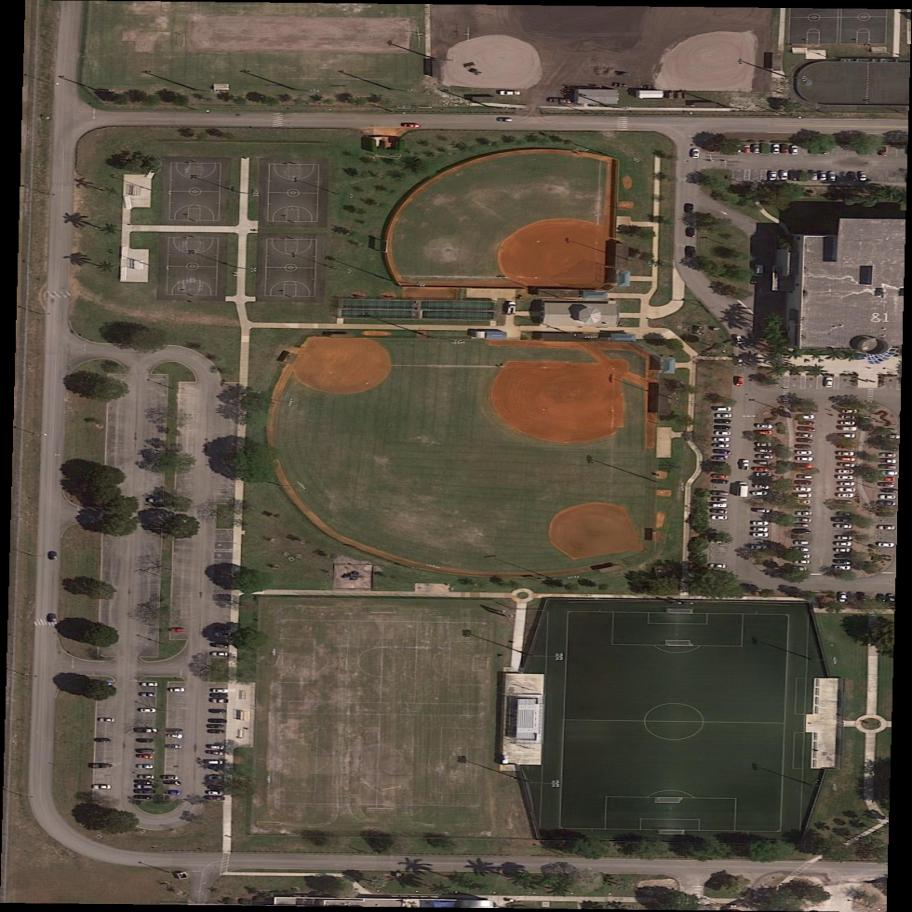small-vehicle: (877, 592, 889, 607), (738, 481, 749, 497), (713, 448, 733, 456), (547, 98, 573, 104), (877, 457, 899, 464), (797, 426, 818, 433), (709, 508, 730, 515), (882, 445, 900, 453), (506, 302, 517, 315), (93, 783, 113, 790), (206, 744, 226, 751), (711, 473, 731, 480), (205, 749, 224, 756), (880, 487, 899, 494), (796, 437, 815, 444), (794, 504, 813, 511), (733, 334, 744, 346), (755, 264, 765, 277), (848, 170, 858, 183), (857, 590, 867, 603), (500, 90, 521, 96), (209, 698, 230, 704), (712, 490, 730, 497), (878, 481, 896, 488), (879, 500, 897, 507), (711, 496, 729, 503), (794, 463, 815, 469), (792, 487, 813, 493), (792, 529, 813, 535), (687, 247, 697, 259), (835, 500, 855, 506), (879, 464, 899, 470), (793, 517, 813, 523), (790, 547, 810, 553), (798, 420, 815, 427), (134, 789, 157, 794), (93, 737, 112, 743), (169, 627, 188, 633), (211, 643, 230, 649), (141, 682, 160, 688), (164, 790, 183, 796), (206, 795, 225, 801), (833, 517, 852, 523), (834, 553, 853, 559), (880, 470, 899, 476), (878, 495, 897, 501), (877, 525, 896, 531), (708, 563, 727, 569), (792, 493, 811, 499), (734, 144, 744, 155), (92, 764, 114, 769), (686, 228, 697, 238), (137, 754, 155, 760), (714, 437, 732, 443), (715, 430, 733, 436), (715, 413, 733, 419), (825, 377, 834, 389), (139, 692, 157, 698), (134, 794, 152, 800), (712, 455, 730, 461), (834, 559, 852, 565), (838, 456, 856, 462), (879, 476, 897, 482), (796, 450, 814, 456), (207, 764, 222, 771), (836, 512, 857, 517), (880, 435, 901, 440), (755, 484, 770, 491), (166, 734, 183, 740), (715, 425, 732, 431), (838, 493, 855, 499), (835, 565, 852, 571), (798, 414, 815, 420), (880, 452, 897, 458), (751, 491, 768, 497), (753, 521, 770, 527), (712, 515, 729, 521), (711, 503, 728, 509), (794, 499, 811, 505), (781, 145, 791, 155), (136, 749, 156, 754), (735, 377, 745, 387), (828, 172, 838, 182), (838, 593, 848, 603), (781, 170, 790, 181), (858, 171, 867, 182), (790, 171, 799, 182), (148, 498, 164, 504), (838, 481, 854, 487), (797, 432, 813, 438), (843, 409, 859, 415), (135, 738, 154, 743), (879, 428, 898, 433), (210, 652, 229, 657), (206, 729, 225, 734), (208, 718, 227, 723), (208, 693, 227, 698), (772, 145, 781, 155), (137, 764, 155, 769), (769, 171, 778, 181), (715, 419, 733, 424), (714, 407, 732, 412), (685, 204, 694, 214), (215, 632, 233, 637), (48, 613, 57, 623), (50, 551, 59, 561), (208, 790, 223, 796), (209, 709, 227, 714), (98, 718, 116, 723), (835, 524, 853, 529), (834, 548, 852, 553), (795, 444, 813, 449), (754, 532, 769, 538), (796, 475, 814, 480), (795, 554, 813, 559), (791, 567, 809, 572), (497, 118, 514, 123), (138, 775, 155, 780), (713, 443, 730, 448), (404, 123, 421, 128), (169, 688, 186, 693), (207, 785, 224, 790), (207, 724, 224, 729), (838, 463, 855, 468), (838, 469, 855, 474), (839, 487, 856, 492), (756, 455, 773, 460), (756, 472, 773, 477), (751, 545, 768, 550), (798, 456, 815, 461), (795, 480, 812, 485), (135, 785, 156, 789), (752, 145, 761, 154), (691, 150, 700, 159), (137, 729, 157, 733), (166, 744, 182, 749), (134, 780, 154, 784), (139, 708, 155, 713), (711, 480, 731, 484), (838, 475, 854, 480), (836, 542, 852, 547), (880, 146, 888, 156), (878, 543, 894, 548), (839, 421, 855, 426), (756, 424, 772, 429), (742, 460, 750, 470), (757, 448, 773, 453), (797, 511, 813, 516), (795, 560, 811, 565), (164, 780, 179, 785), (842, 415, 857, 420), (754, 467, 769, 472), (876, 513, 894, 517), (744, 145, 752, 154), (791, 146, 799, 155), (811, 172, 819, 181), (819, 172, 827, 181), (839, 427, 857, 431), (752, 528, 770, 532), (792, 524, 810, 528), (208, 776, 222, 781), (206, 760, 223, 764), (211, 689, 228, 693), (838, 452, 855, 456), (838, 434, 855, 438), (794, 541, 811, 545), (756, 509, 772, 513), (709, 540, 725, 544), (757, 443, 773, 447), (164, 776, 179, 780), (837, 536, 852, 540), (758, 461, 773, 465), (758, 431, 773, 435), (821, 147, 828, 155)
